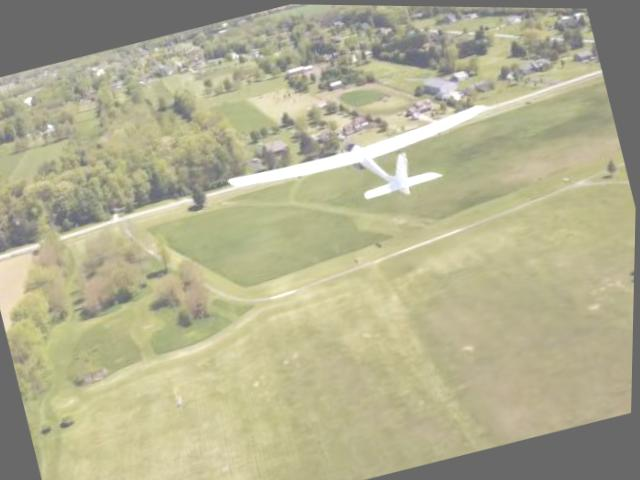uav: (215, 78, 513, 252)
